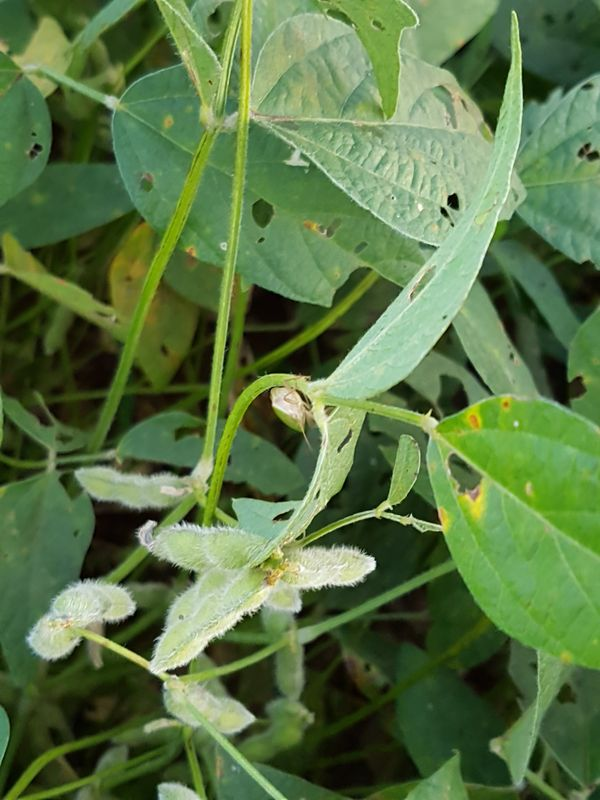Edessa_meditabunda: (257, 367, 331, 452)
